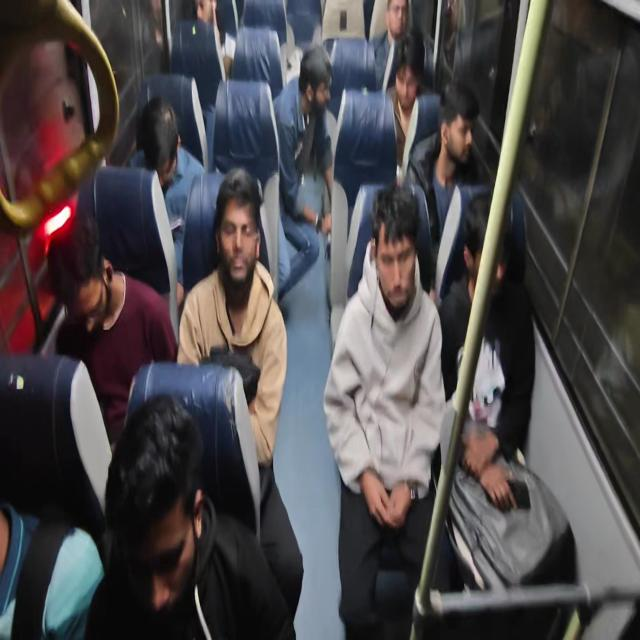person: (323, 184, 447, 638), (84, 392, 297, 638), (176, 166, 288, 468), (438, 189, 536, 512), (47, 210, 178, 451), (403, 80, 485, 300), (272, 44, 334, 304), (134, 95, 206, 297), (0, 500, 104, 638), (385, 32, 440, 187), (368, 0, 427, 94), (194, 0, 233, 81)
